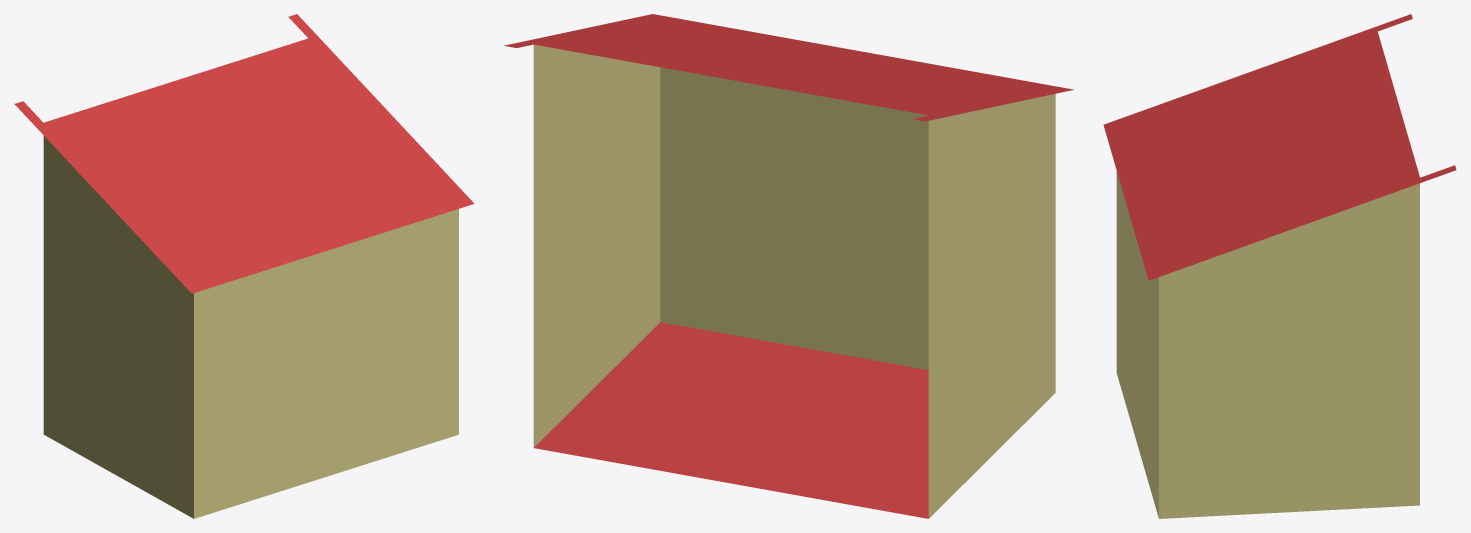
3 renders of one model, left to right at view 1: azimuth 30°, elevation 25°; view 2: azimuth 150°, elevation 25°; view 3: azimuth 270°, elevation 25°, orthographic. The views are drawn at different scales.
Bounding box in the file's own units: 8.61 × 7.46 × 7.9.
